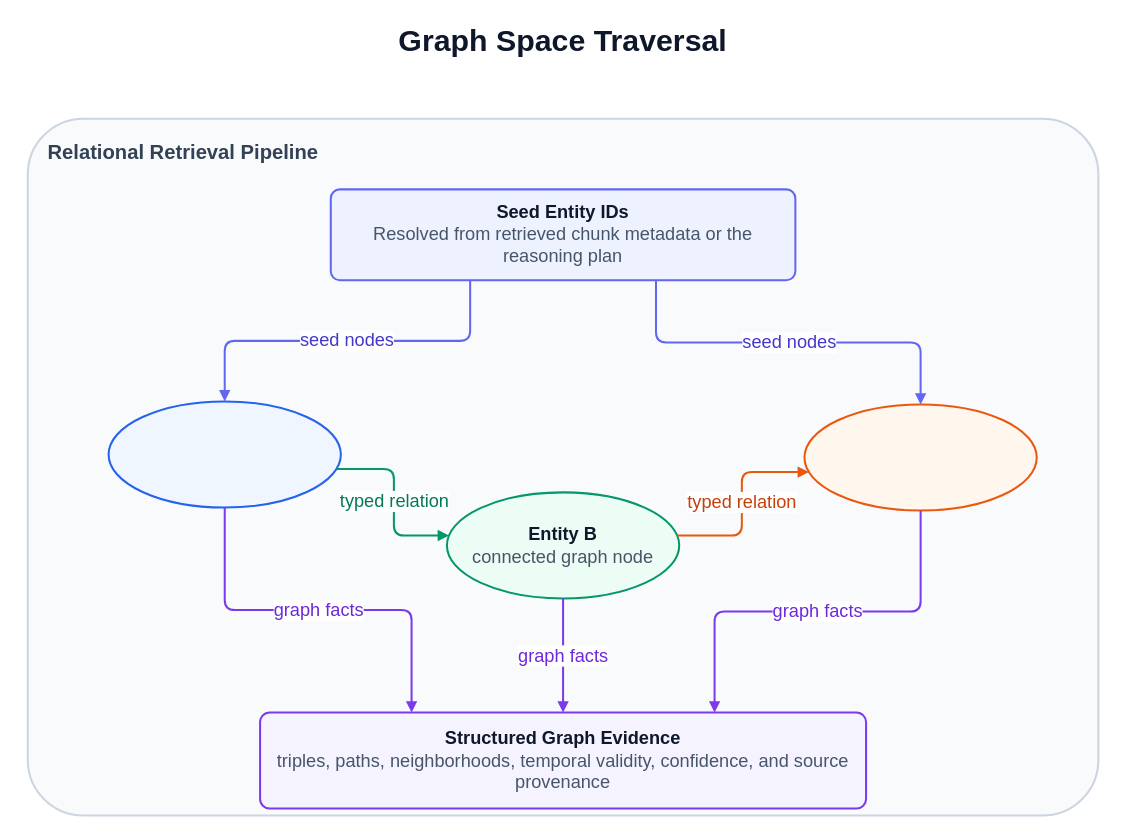
Some shapes in this 1125 by 833 pixel diagram are drawn without their labels. The shapes that lost their labels are listed below. From the top down, each one's centre as x and y in pixels, then its label:
the point at 224,454: Entity A actor, institution, event, or place
the point at 920,457: Entity C neighbor reached through another hop
